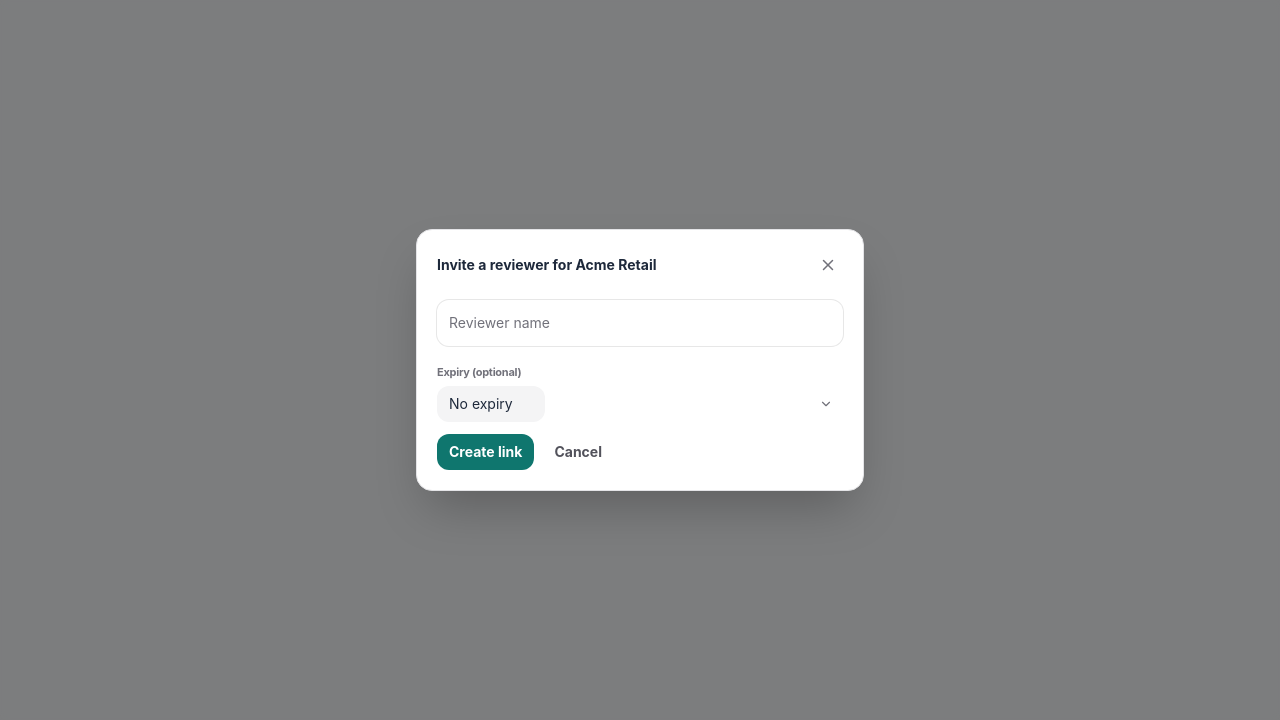
InviteReviewerDialog (V5) › shows the one-time full link with copy and the shown-only-once note
The image size is (1280, 720).
Type "Martina" into the field labelled "Reviewer name".
click(640, 323); type("Martina")  # box [437,300,843,346]
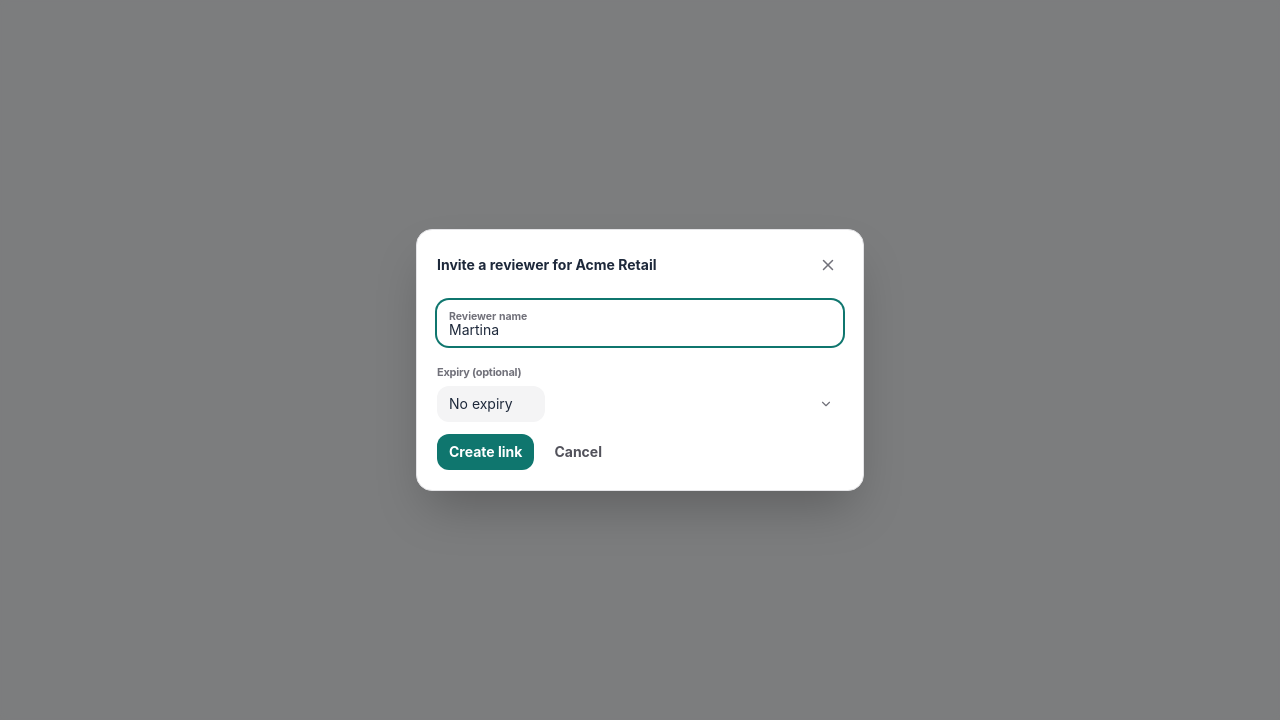
Click the button "Create link".
click(486, 452)  # box [437,434,534,470]
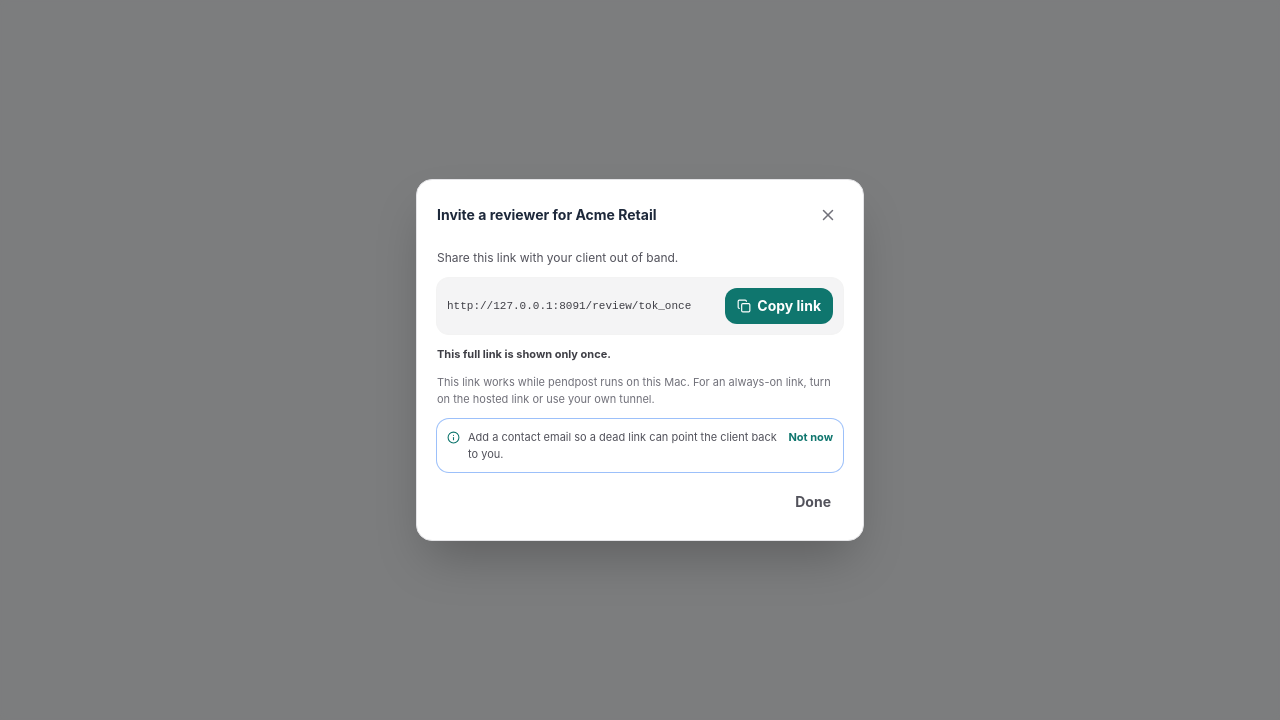
Check: the text "http://127.0.0.1:8091/review/tok_once" is shown, box [447,298,717,314]
Check: the text "This full link is shown only once." is shown, box [437,347,611,361]
Click the button "Copy link".
click(779, 306)  # box [725,288,833,324]
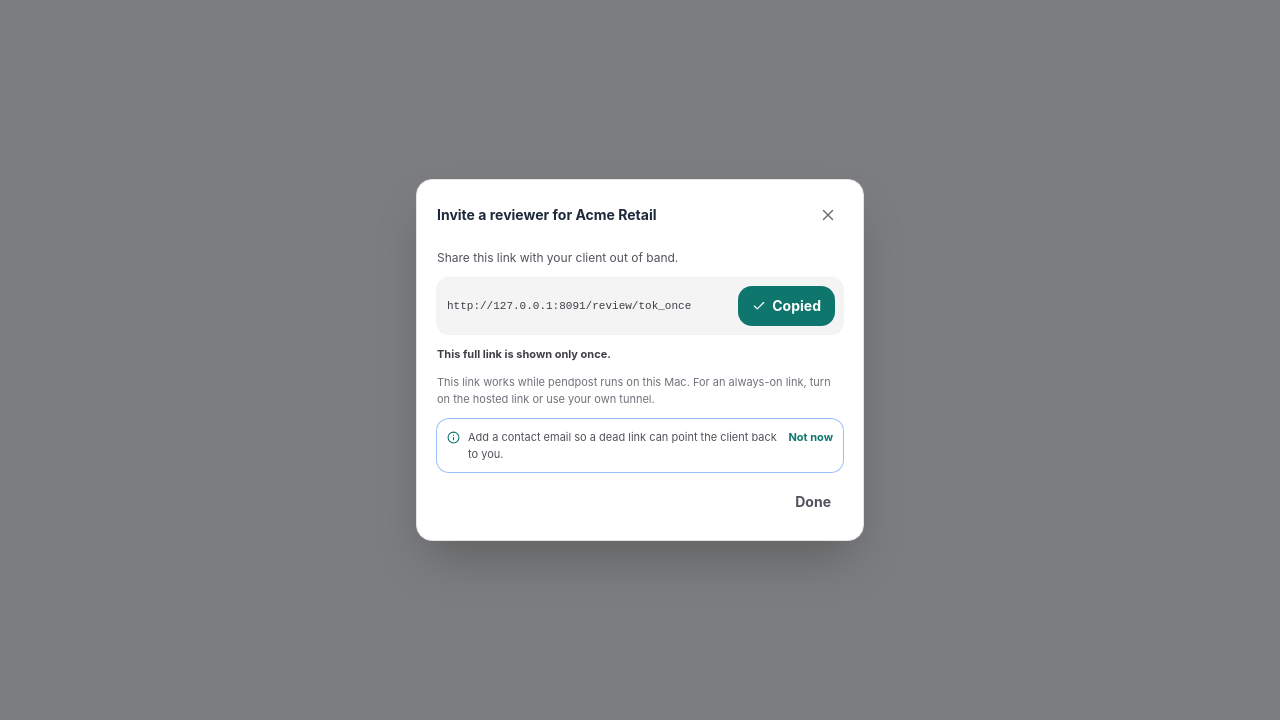
Check: the button "Copied" is shown, box [740,288,833,324]
